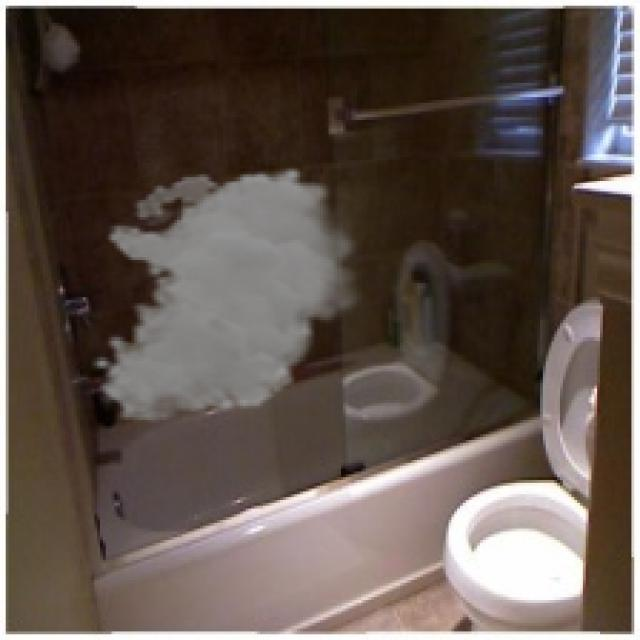smoke: (92, 166, 368, 423)
